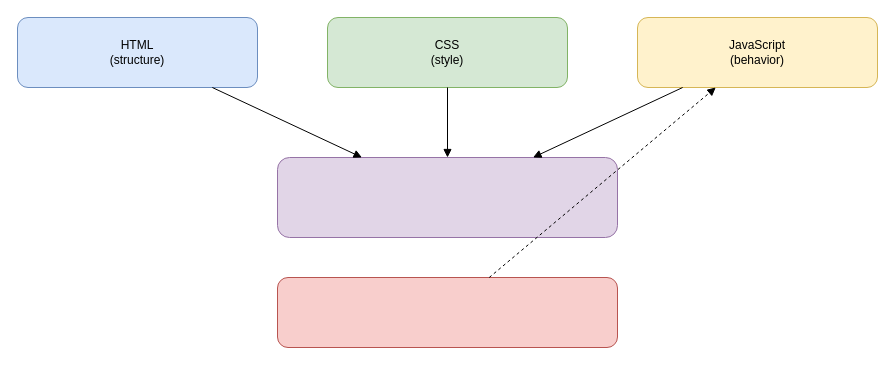
This 895x365 diagram has some shape labels left out. Here are the shapes that lost their labels. From the top down, the centre of each, then its label:
the point at 447,197: DOM tree (live page)
the point at 447,312: Browser console (run JS on the page)
